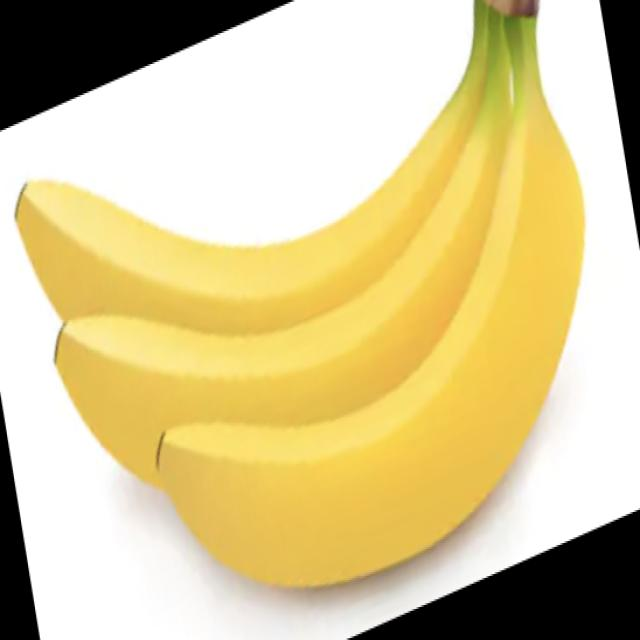god quality banana: (15, 2, 585, 587)
